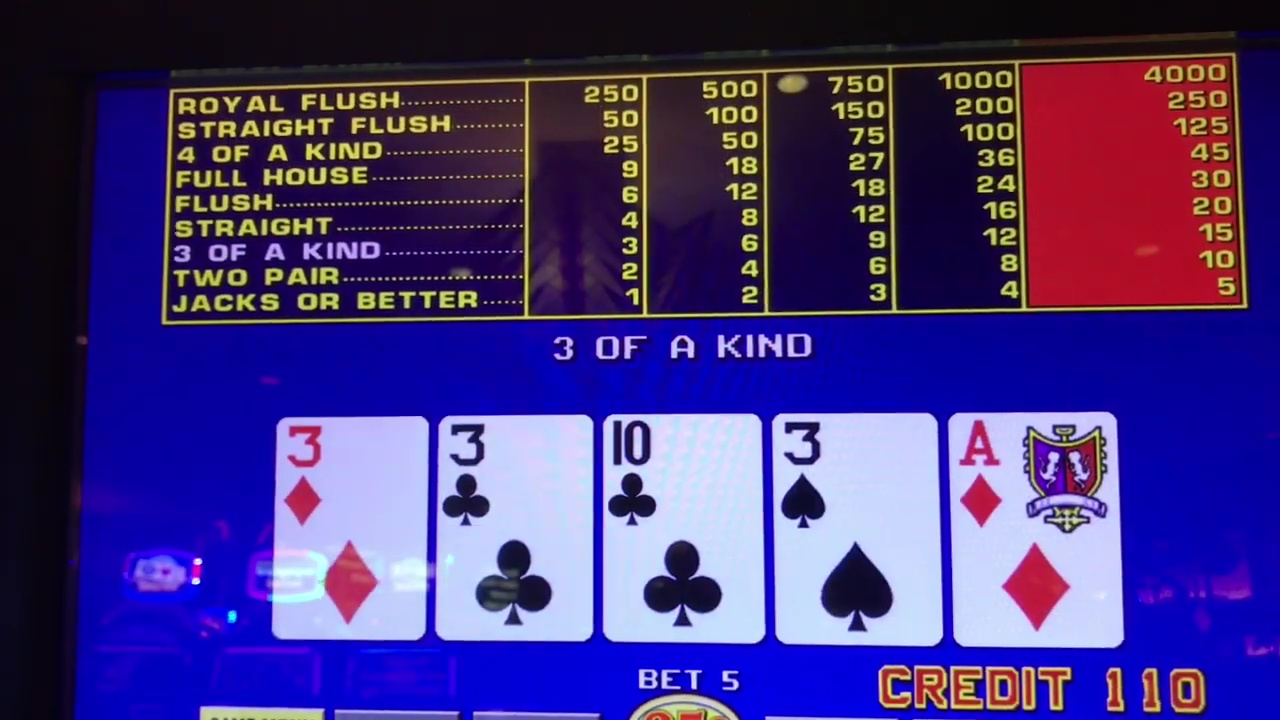C3: (444, 415, 587, 538)
CT: (606, 417, 759, 540)
D3: (283, 420, 423, 540)
DA: (953, 412, 1109, 538)
S3: (782, 411, 929, 538)
